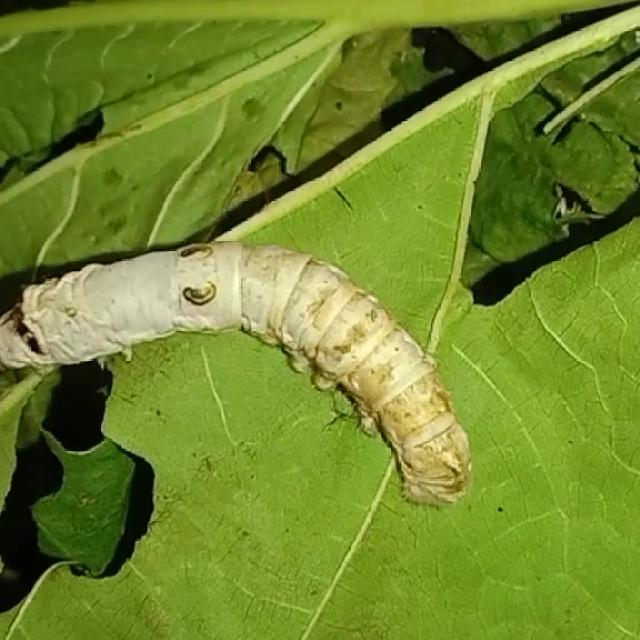Grasserie: (0, 221, 486, 515)
